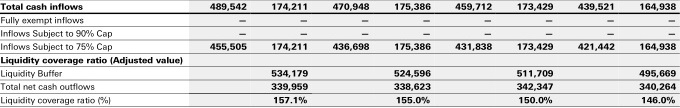column: (1, 1, 183, 107), (331, 1, 371, 107), (271, 1, 310, 108), (393, 1, 432, 108), (640, 1, 679, 107), (456, 1, 494, 108), (578, 1, 615, 108), (210, 1, 247, 107), (517, 1, 554, 107)
row: (1, 29, 680, 40), (1, 56, 680, 67), (1, 2, 680, 12), (1, 16, 680, 26), (1, 41, 680, 51), (1, 82, 680, 92), (1, 69, 680, 78), (1, 96, 679, 105)
